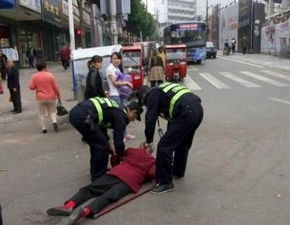falling: (43, 140, 161, 220)
